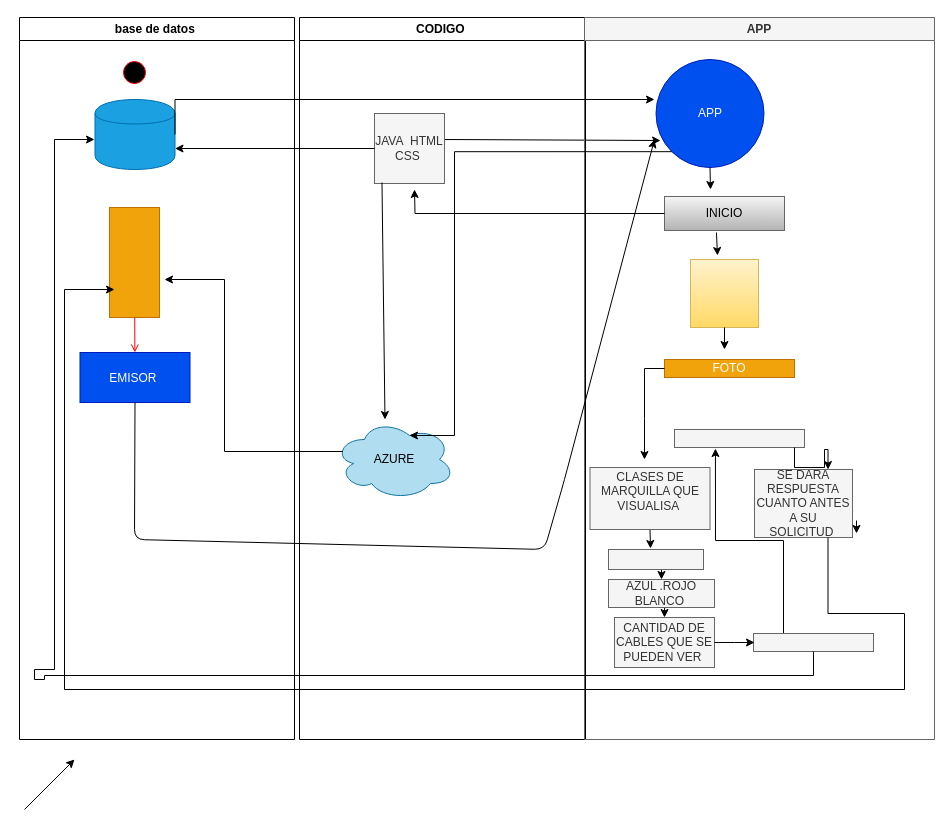
The diagram is 952 pixels wide and 835 high, and some of its shapes have lost their labels. Here are the shapes that lost their labels. From the top down, the centre of each, then its label:
At pixel 134 134: "SQL".
At pixel 134 262: "CLIENTE".
At pixel 724 293: "MENU PRINCIPAL".
At pixel 739 438: "EXITOSO".
At pixel 656 559: "COLORES".
At pixel 813 642: "EMVIAR".
